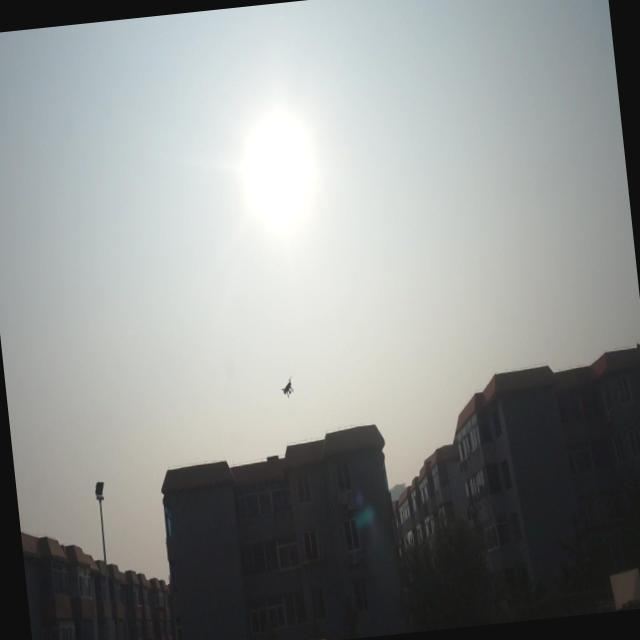drone: (278, 375, 296, 401)
